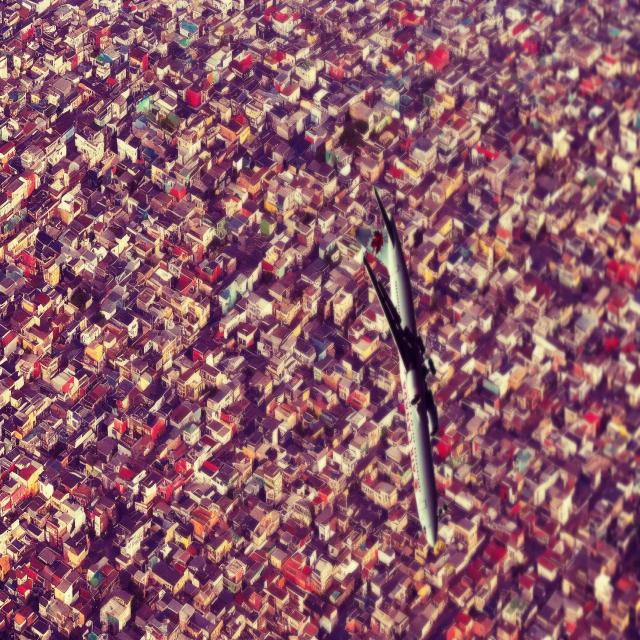airplane: (352, 184, 443, 549)
